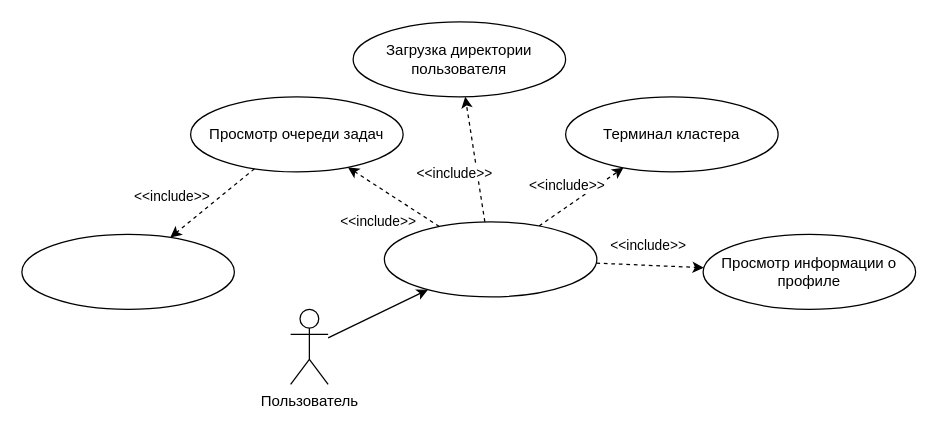
This 938x433 diagram has some shape labels left out. The centre of each missing label's shape, as x and y in pixels:
Выбор доступного кластера: [490,259]
Запуск задачи: [127,271]
